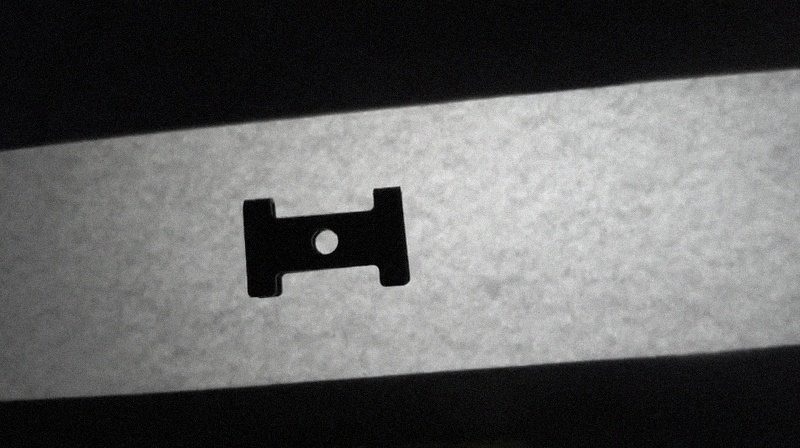O002: (235, 181, 412, 303)
